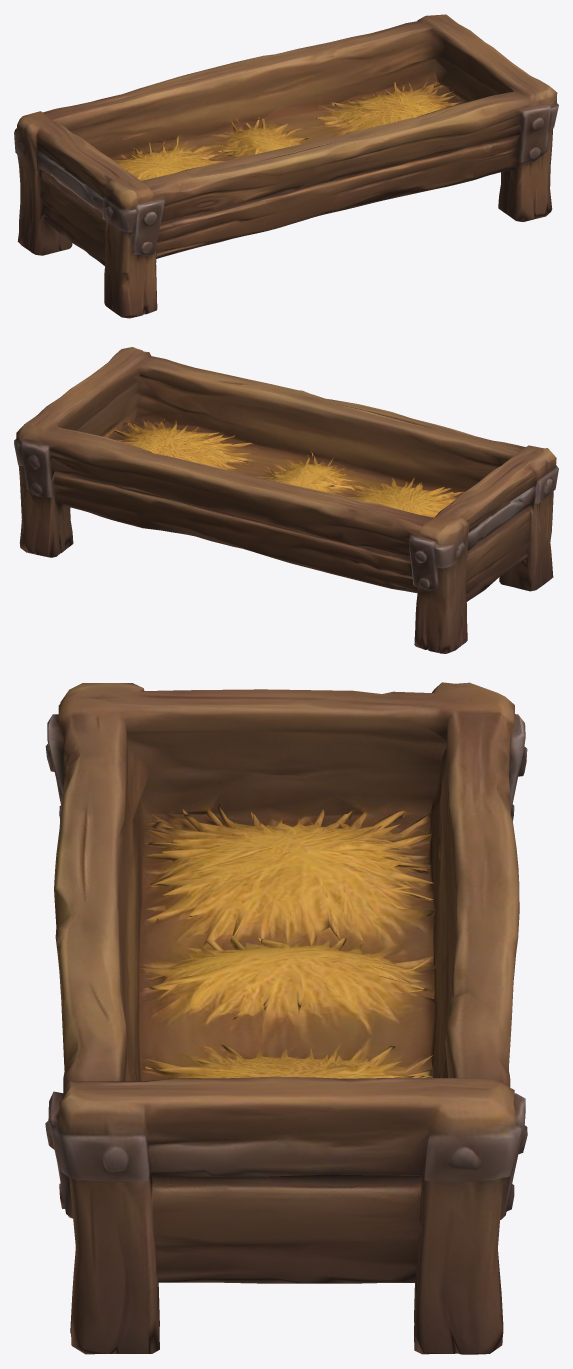
Rendered from cattle_market_trough.glb.
The picture shows the model from 3 angles, top to bottom: view 1: azimuth 30°, elevation 25°; view 2: azimuth 150°, elevation 25°; view 3: azimuth 270°, elevation 25°; orthographic projection. The views are drawn at different scales.
Visible parts, largest first — view 1: tripo_node_e871d185-6370-42fb-a7f3-b42754828f7b; view 2: tripo_node_e871d185-6370-42fb-a7f3-b42754828f7b; view 3: tripo_node_e871d185-6370-42fb-a7f3-b42754828f7b.
Part boxes in pixels (bbox=[...]): tripo_node_e871d185-6370-42fb-a7f3-b42754828f7b: bbox=[14, 14, 558, 318]; tripo_node_e871d185-6370-42fb-a7f3-b42754828f7b: bbox=[14, 347, 558, 653]; tripo_node_e871d185-6370-42fb-a7f3-b42754828f7b: bbox=[45, 682, 527, 1354].
Size of the model in its own units: 1 by 0.2743 by 0.4726.
Materials: 1 (1 with a texture image).
